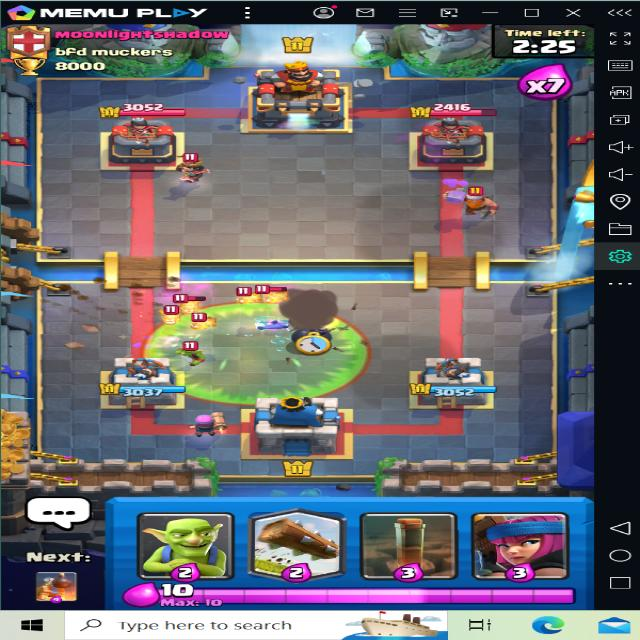goblin: (176, 337, 208, 368)
goblin-curse: (137, 299, 377, 410)
little-prince: (175, 148, 224, 188)
lumberjack: (445, 176, 505, 216)
